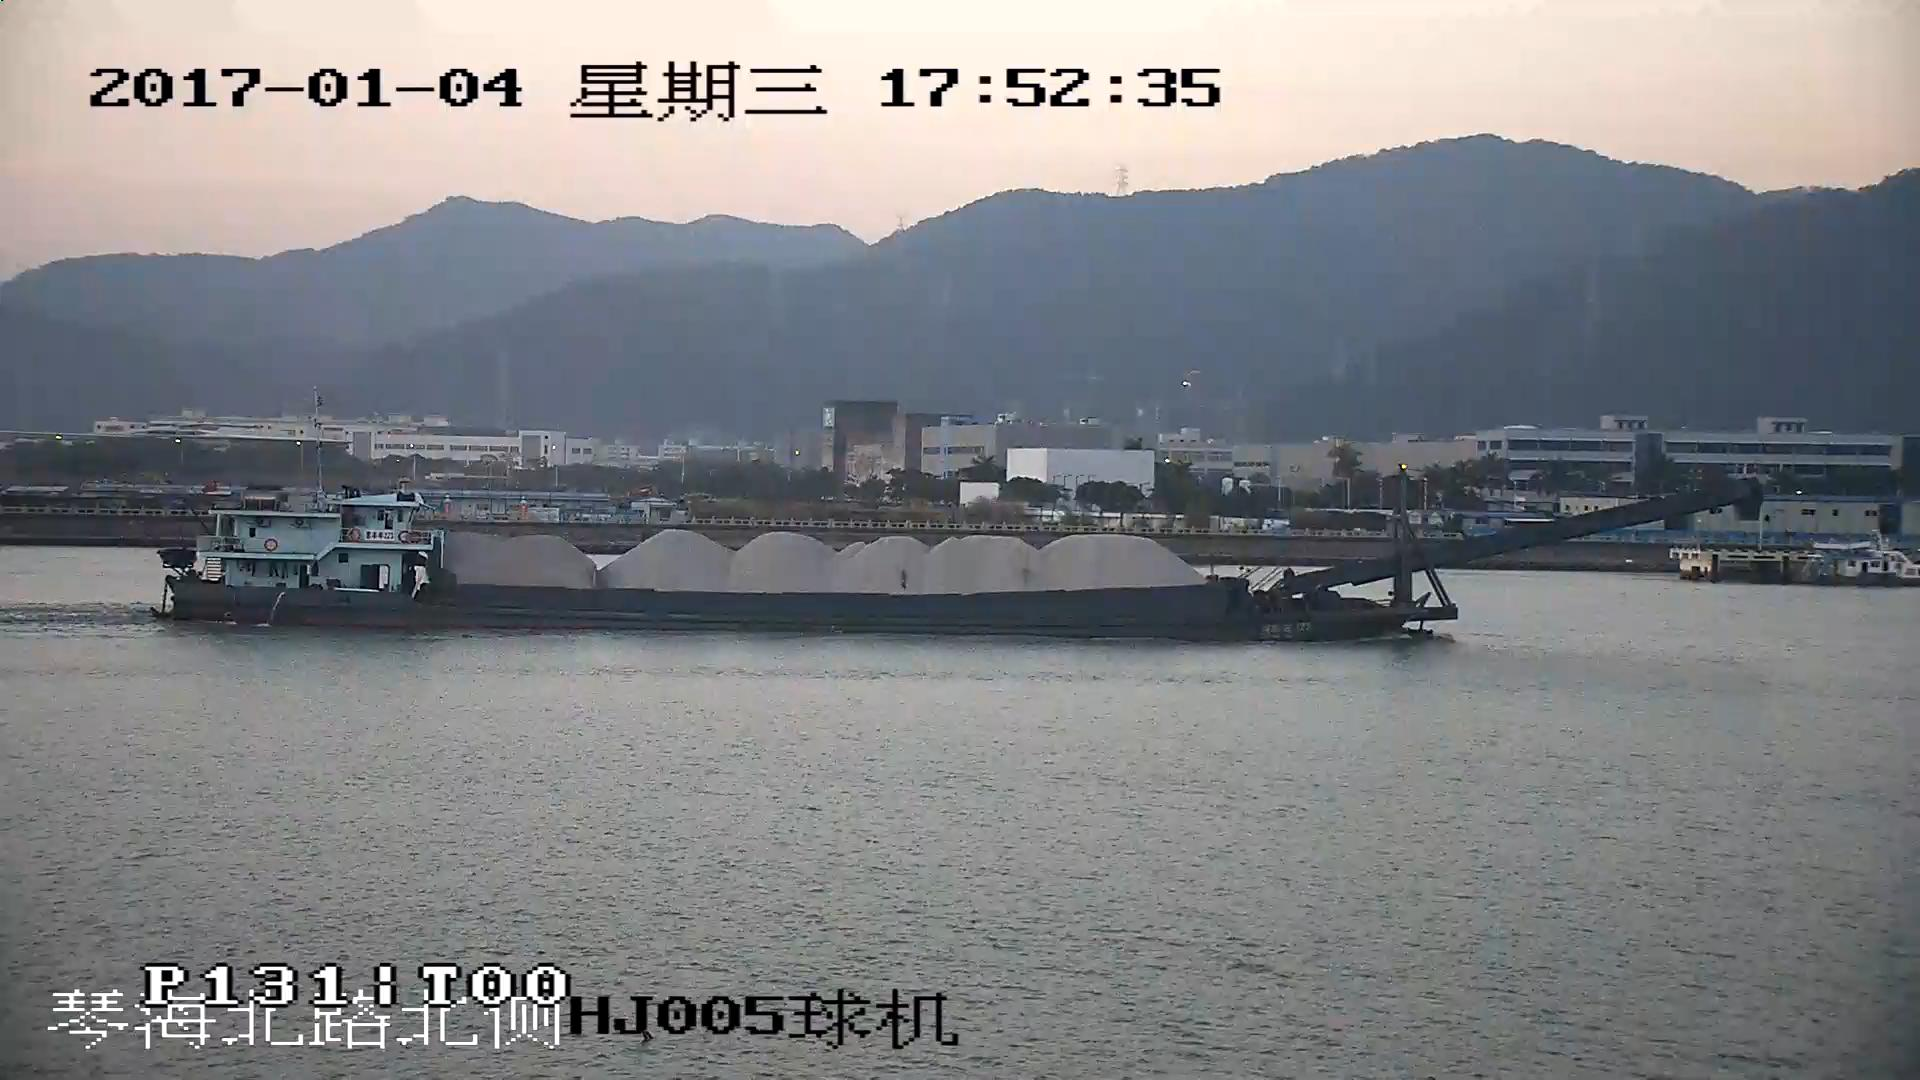ore carrier: (165, 479, 1751, 640)
